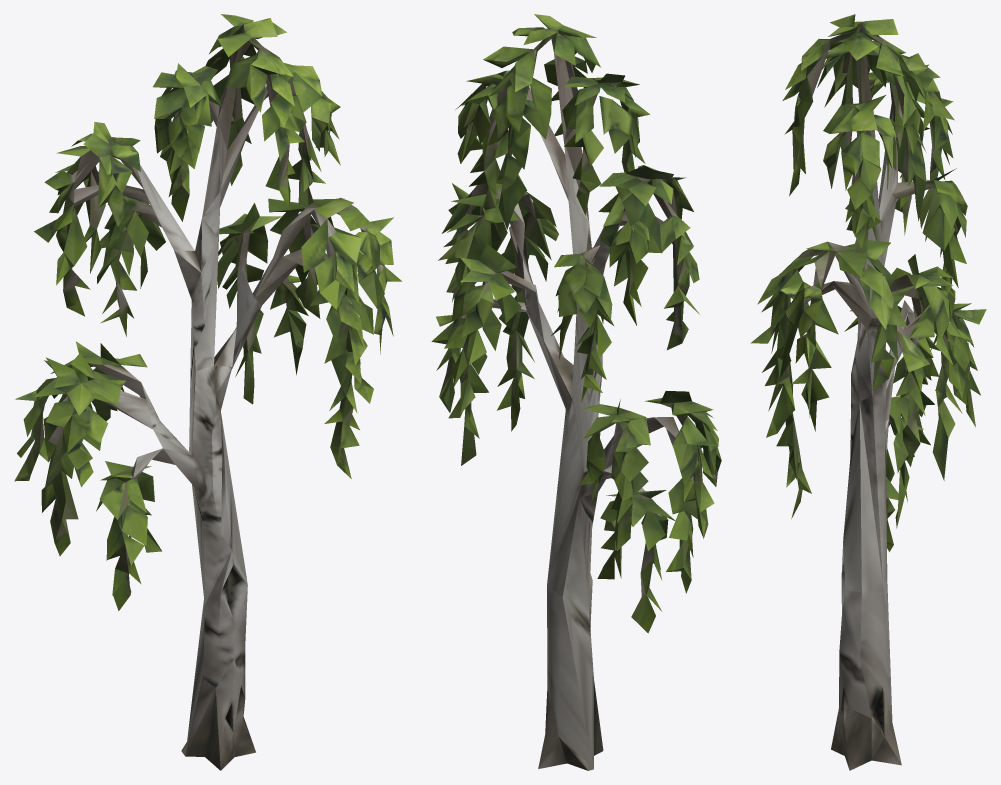
The picture shows the model from 3 angles, left to right: view 1: azimuth 30°, elevation 25°; view 2: azimuth 150°, elevation 25°; view 3: azimuth 270°, elevation 25°; orthographic projection. The views are drawn at different scales.
Parts seen in each view (by area): view 1: birch; view 2: birch; view 3: birch.
Boxes of the visible parts, x1=… form: birch: x1=14, y1=14, x2=402, y2=770; birch: x1=431, y1=14, x2=721, y2=770; birch: x1=750, y1=14, x2=986, y2=770.
Bounding box in the file's own units: 0.4674 × 0.9826 × 0.2808.
1 material, 1 textured.
